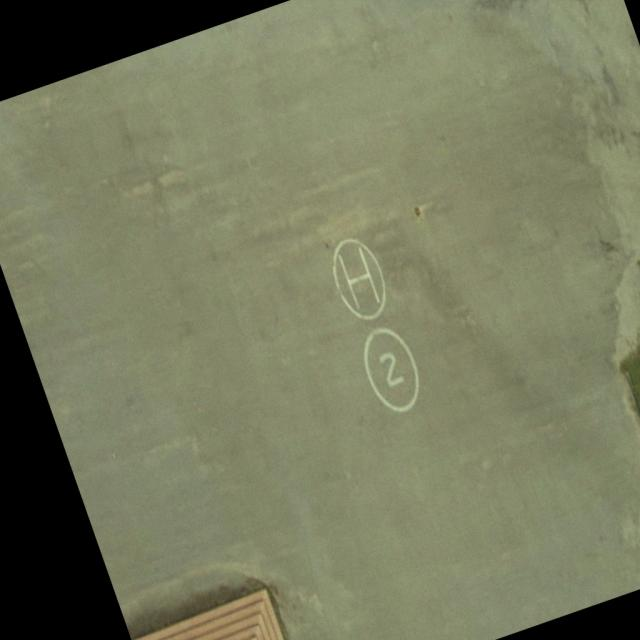helipad: (329, 235, 390, 322)
